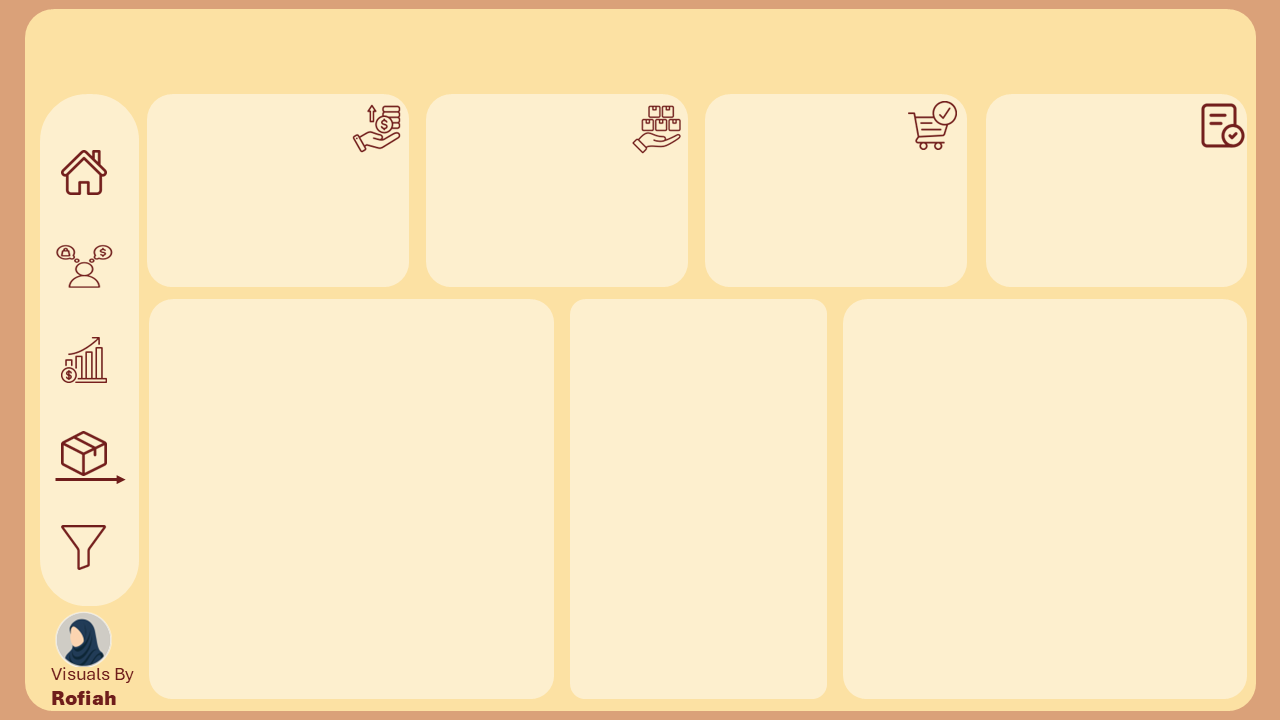

Layout of this report page (visuals, bound fields, positions):
{"tool":"powerbi","page":{"name":"Home Page","canvas":[1280,720],"ordinal":0},"visuals":[{"type":"shape","box":[0,92.8,1280.5,627.8],"z":0},{"type":"shape","box":[29.8,450.6,54.7,58],"z":1000},{"type":"textbox","box":[16.6,122.6,543.3,293.2],"z":2000},{"type":"shape","box":[0,0,1280.5,106],"z":3000},{"type":"textbox","box":[222,33.1,877.9,39.8],"z":4000},{"type":"actionButton","box":[56.9,459.2,463.2,40.6],"z":5000},{"type":"actionButton","box":[97.5,528.3,542.5,58.9],"z":6000},{"type":"actionButton","box":[199.1,603.4,365.7,56.9],"z":7000},{"type":"shape","box":[89.4,528.4,54.7,58],"z":8000},{"type":"shape","box":[144.1,603,54.7,58],"z":9000},{"type":"image","box":[638.9,94.8,222,144.1],"z":10000,"group":"g1"},{"type":"image","box":[631.1,256.8,626.1,439],"z":10000},{"type":"image","box":[811.1,94.8,189.1,144.1],"z":11000,"group":"g1"},{"type":"shape","box":[631.1,258.4,626.1,437.3],"z":11000},{"type":"group","id":"g1","title":"Group 1","box":[638.9,83.2,639.7,155.7],"z":12000},{"type":"image","box":[950.4,94.8,189.1,144.1],"z":12000,"group":"g1"},{"type":"image","box":[1089.7,83.2,188.8,155.7],"z":13000,"group":"g1"},{"type":"textbox","box":[798.4,366.1,299.8,294.9],"z":13000},{"type":"textbox","box":[798.4,366.1,306.4,49.7],"z":14000}]}

Visuals, with their boxes in screenshot pixels (x1, y1, x2, y2), scaled from the page's 1280x720 canvas onto the 1280x720 screenshot:
shape: locate(0, 93, 1279, 719)
shape: locate(30, 451, 84, 509)
textbox: locate(17, 123, 560, 416)
shape: locate(0, 0, 1279, 106)
textbox: locate(222, 33, 1100, 73)
actionButton: locate(57, 459, 520, 500)
actionButton: locate(98, 528, 640, 587)
actionButton: locate(199, 603, 565, 660)
shape: locate(89, 528, 144, 586)
shape: locate(144, 603, 199, 661)
image: locate(639, 95, 861, 239)
image: locate(631, 257, 1257, 696)
image: locate(811, 95, 1000, 239)
shape: locate(631, 258, 1257, 696)
"Group 1" group: locate(639, 83, 1279, 239)
image: locate(950, 95, 1140, 239)
image: locate(1090, 83, 1278, 239)
textbox: locate(798, 366, 1098, 661)
textbox: locate(798, 366, 1105, 416)
